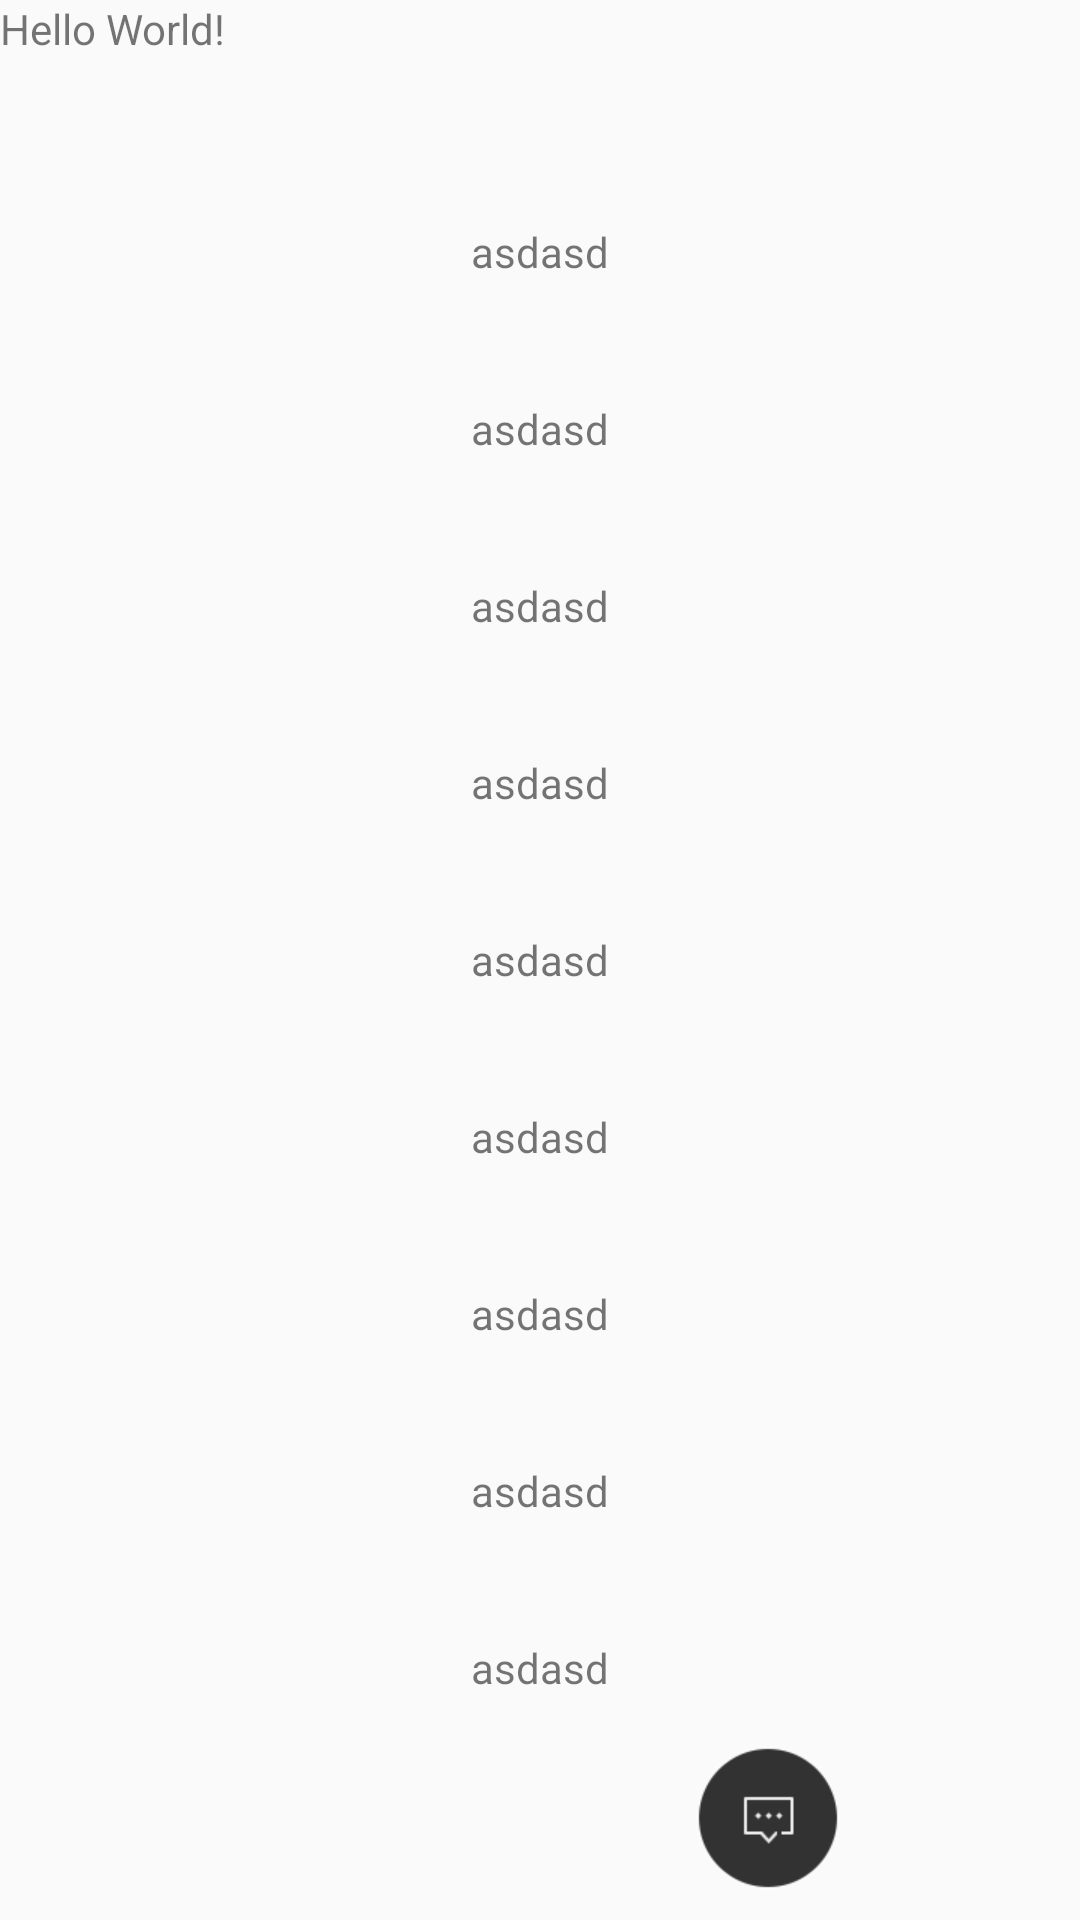

Icon bounding boxes for this 1080px×1920px phone screenshot, format [x1,y1,x2,y2]:
bottom comment: [698,1748,838,1888]
